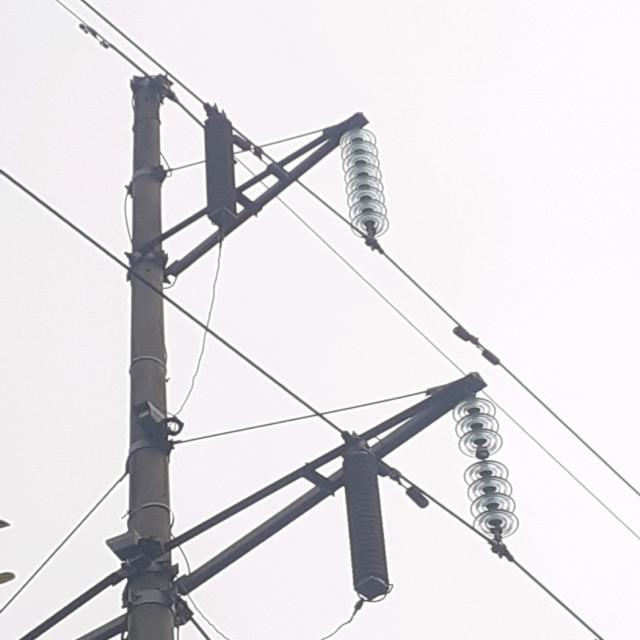杆塔: (3, 54, 489, 640)
正常绝缘子: (447, 382, 528, 568), (328, 110, 397, 255)
绝缘子破损: (474, 448, 490, 460)
